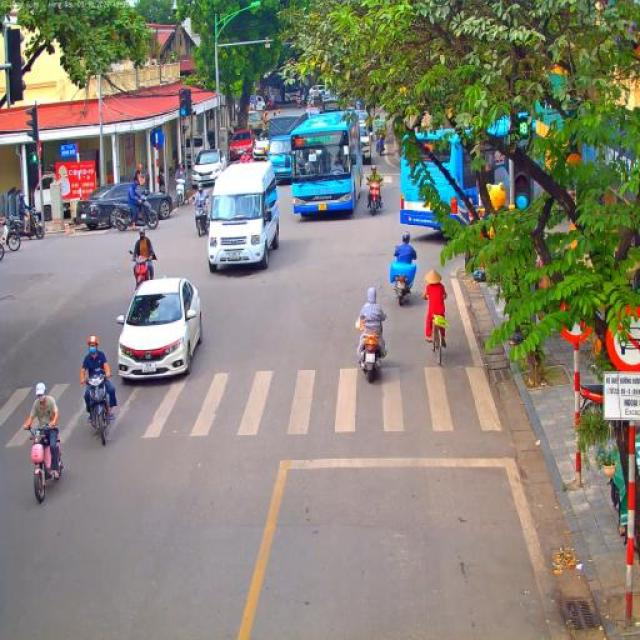bus: (400, 112, 564, 237), (284, 111, 364, 218), (208, 161, 280, 274)
car: (116, 276, 204, 384), (76, 182, 174, 229), (192, 149, 228, 191), (228, 128, 254, 162), (252, 129, 269, 162), (298, 107, 320, 123), (309, 84, 321, 107), (256, 96, 266, 112)
motorcycle: (21, 420, 65, 504), (83, 370, 112, 446), (358, 316, 387, 383), (110, 196, 160, 232), (388, 259, 418, 306), (16, 206, 45, 240), (129, 250, 153, 290), (0, 216, 21, 252), (194, 198, 210, 237), (366, 180, 382, 216), (176, 178, 187, 206), (375, 136, 385, 156), (297, 96, 301, 109)
truck: (264, 116, 307, 182), (352, 112, 372, 164), (234, 110, 264, 140), (318, 84, 342, 115), (276, 76, 299, 104)
